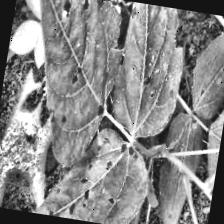ALS: (15, 0, 124, 156), (17, 116, 158, 224), (110, 1, 196, 138)
